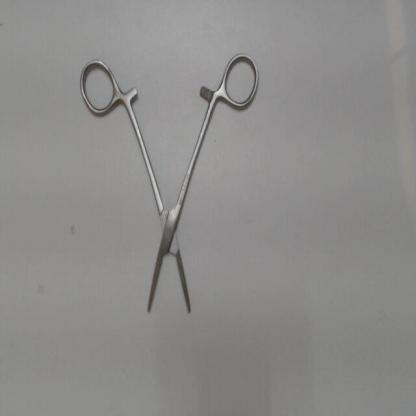Mayo Needle Holder: (76, 50, 266, 322)
